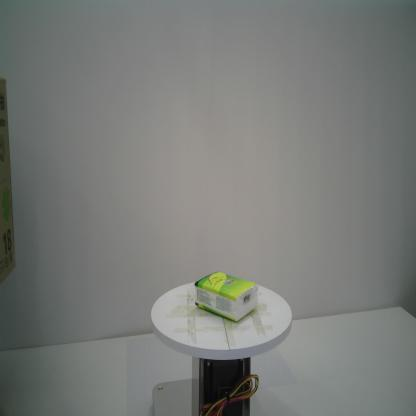Tissue: (194, 270, 259, 322)
